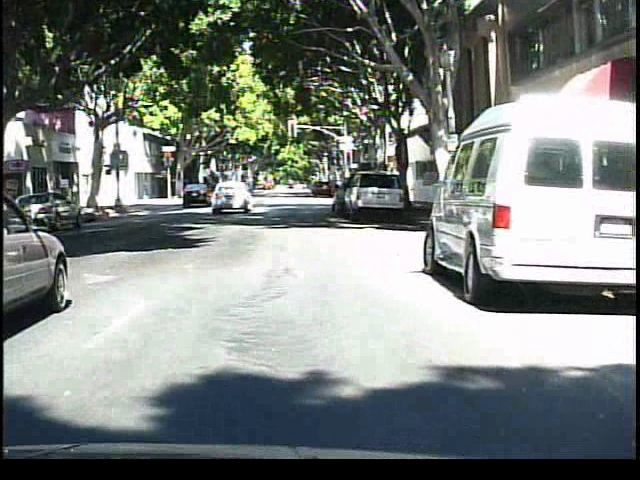person: (219, 171, 242, 207)
